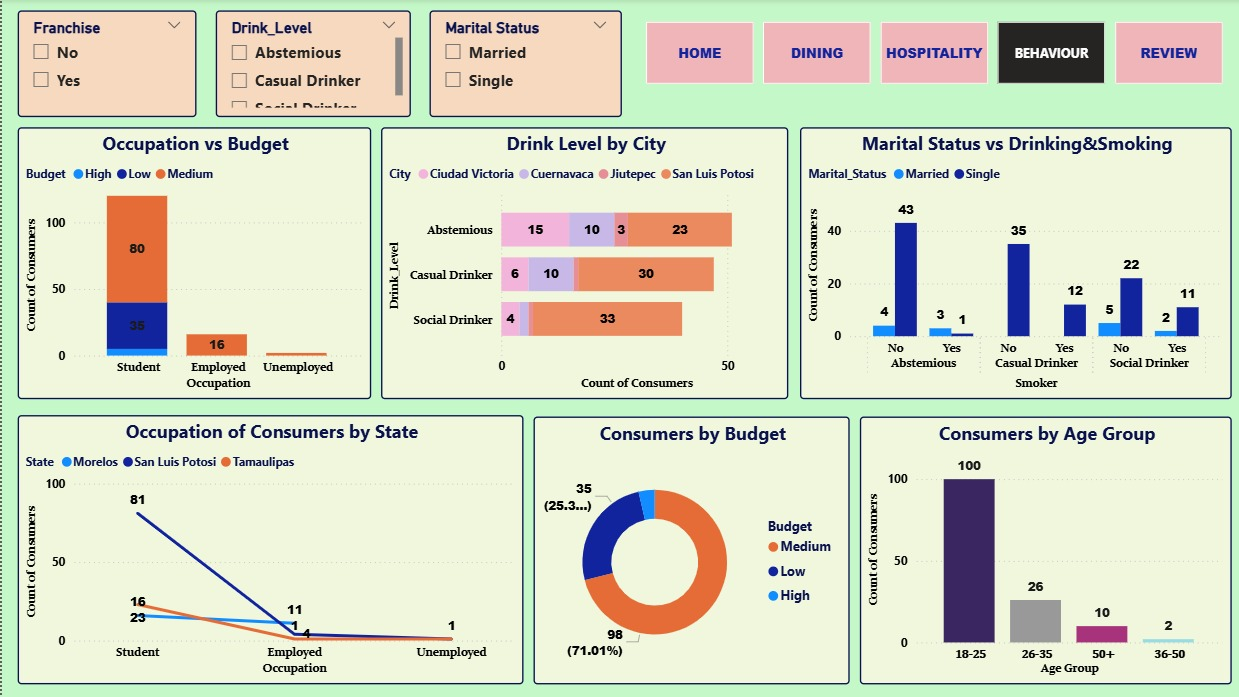

Layout of this report page (visuals, bound fields, positions):
{"tool":"powerbi","page":{"name":"BEHAVIOUR","canvas":[1280,720],"ordinal":3},"visuals":[{"type":"lineChart","title":"Occupation of Consumers by State","fields":{"Category":["cleaned_consumers_data.Occupation"],"Y":["CountNonNull(cleaned_consumers_data.Consumer_ID)"],"Series":["cleaned_consumers_data.State"]},"box":[16.2,429.5,522.1,278],"z":0},{"type":"columnChart","title":"Occupation vs  Budget","fields":{"Category":["cleaned_consumers_data.Occupation"],"Y":["CountNonNull(cleaned_consumers_data.Consumer_ID)"],"Series":["cleaned_consumers_data.Budget"]},"box":[16.2,132.4,364.8,280.9],"z":1000},{"type":"barChart","title":"Drink Level by City","fields":{"Category":["cleaned_consumers_data.Drink_Level"],"Series":["cleaned_consumers_data.City"],"Y":["CountNonNull(cleaned_consumers_data.Consumer_ID)"]},"box":[391.2,132.4,420.7,280.9],"z":2000},{"type":"clusteredColumnChart","title":" Marital Status vs Drinking&Smoking","fields":{"Category":["cleaned_consumers_data.Drink_Level","cleaned_consumers_data.Smoker"],"Y":["Count(cleaned_consumers_data.Consumer_ID)"],"Series":["cleaned_consumers_data.Marital_Status"]},"box":[823.7,132.4,445.7,280.9],"z":3000},{"type":"donutChart","title":"Consumers by Budget","fields":{"Category":["cleaned_consumers_data.Budget"],"Y":["CountNonNull(cleaned_consumers_data.Consumers)"]},"box":[547.9,431.1,326.3,276.5],"z":4000},{"type":"columnChart","title":" Consumers by Age Group","fields":{"Category":["cleaned_consumers_data.Age Group"],"Y":["CountNonNull(cleaned_consumers_data.Consumers)"]},"box":[885.4,431,383.9,276.5],"z":5000},{"type":"pageNavigator","box":[664.3,23.1,596.4,65],"z":6000},{"type":"slicer","fields":{"Values":["cleaned_restaurants_data.Franchise"]},"box":[15.7,11.4,184.3,110],"z":7000},{"type":"slicer","fields":{"Values":["cleaned_consumers_data.Marital_Status"]},"box":[441.4,11.4,198.6,110],"z":8000},{"type":"slicer","fields":{"Values":["cleaned_consumers_data.Drink_Level"]},"box":[220,11.4,201.4,110],"z":9000}]}

Visuals, with their boxes in screenshot pixels (x1, y1, x2, y2), scaled from the page's 1280x720 canvas onto the 1239x697 screenshot:
"Occupation of Consumers by State" lineChart: x1=16 y1=416 x2=521 y2=685
"Occupation vs  Budget" columnChart: x1=16 y1=128 x2=369 y2=400
"Drink Level by City" barChart: x1=379 y1=128 x2=786 y2=400
" Marital Status vs Drinking&Smoking" clusteredColumnChart: x1=797 y1=128 x2=1229 y2=400
"Consumers by Budget" donutChart: x1=530 y1=417 x2=846 y2=685
" Consumers by Age Group" columnChart: x1=857 y1=417 x2=1229 y2=685
pageNavigator: x1=643 y1=22 x2=1220 y2=85
slicer - cleaned_restaurants_data.Franchise: x1=15 y1=11 x2=194 y2=118
slicer - cleaned_consumers_data.Marital_Status: x1=427 y1=11 x2=620 y2=118
slicer - cleaned_consumers_data.Drink_Level: x1=213 y1=11 x2=408 y2=118
